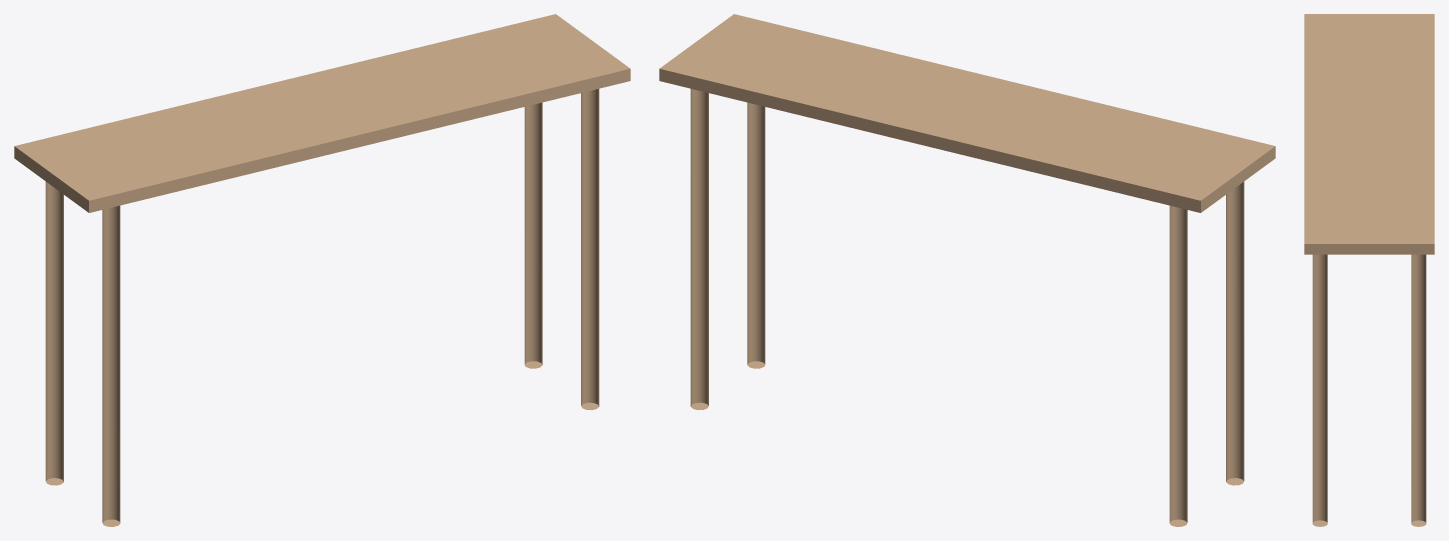
File: console_table_04.glb
3 views of the same model, side by side, from view 1: azimuth 30°, elevation 25°; view 2: azimuth 150°, elevation 25°; view 3: azimuth 270°, elevation 25° (orthographic). The views are drawn at different scales.
Bounding box in the file's own units: 1.38 × 0.82 × 0.33.
